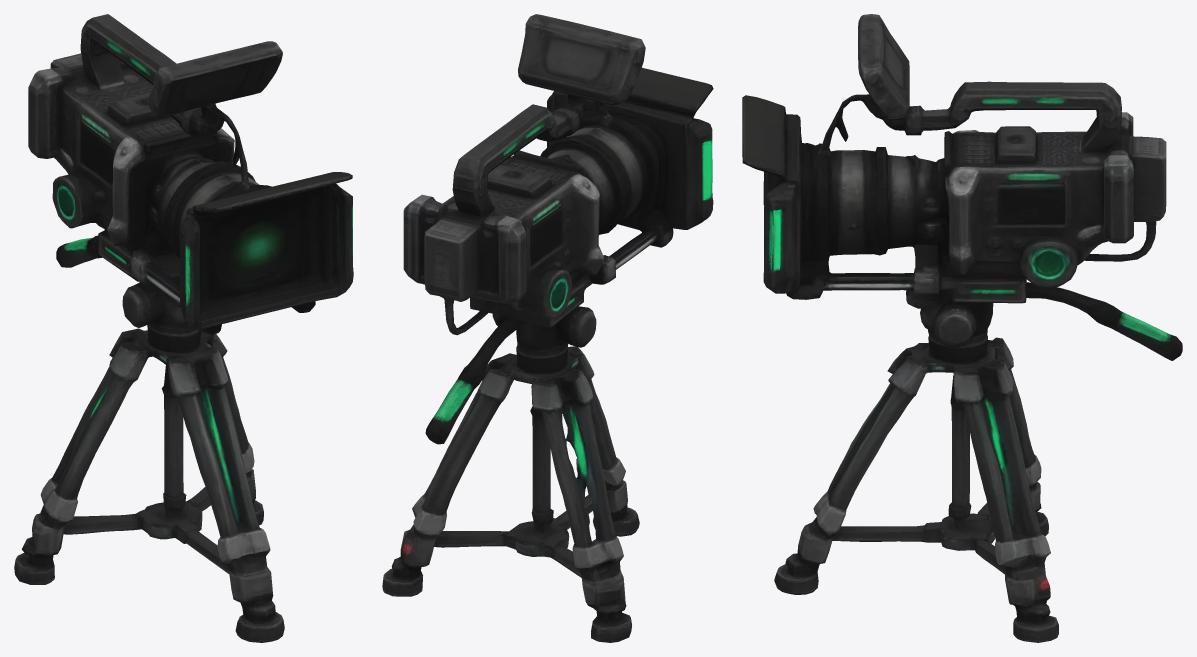
The model's file is m_studio.glb.
3 views of the same model, side by side, from view 1: azimuth 30°, elevation 25°; view 2: azimuth 150°, elevation 25°; view 3: azimuth 270°, elevation 25° (orthographic). The views are drawn at different scales.
Visible parts, largest first — view 1: geometry_0; view 2: geometry_0; view 3: geometry_0.
Part boxes in pixels (bbox=[...]): geometry_0: bbox=[14, 14, 353, 642]; geometry_0: bbox=[382, 14, 713, 642]; geometry_0: bbox=[742, 14, 1182, 642].
Bounding box in the file's own units: 0.4752 × 0.9998 × 0.7363.
1 material, 1 textured.
